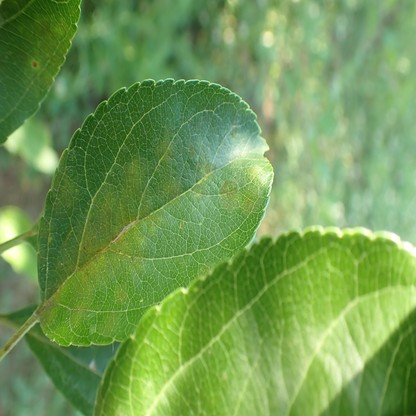frogeye_leaf_spot: (33, 61, 37, 66)
scab: (77, 160, 161, 314), (56, 158, 75, 207), (40, 286, 62, 324), (33, 16, 55, 39), (243, 188, 261, 214), (222, 181, 238, 206), (249, 162, 266, 185), (157, 137, 171, 161), (169, 182, 182, 205), (200, 161, 217, 176), (191, 181, 206, 198), (230, 127, 238, 139)
